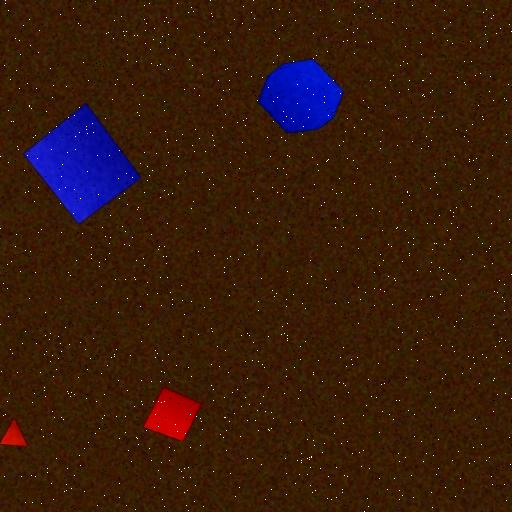BLUE_SQUARE: (22, 102, 142, 224)
RED_SQUARE: (142, 386, 202, 442)
